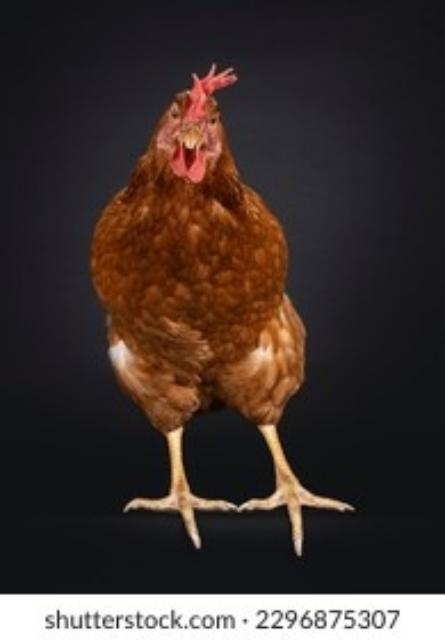Chicken: (87, 66, 355, 556)
